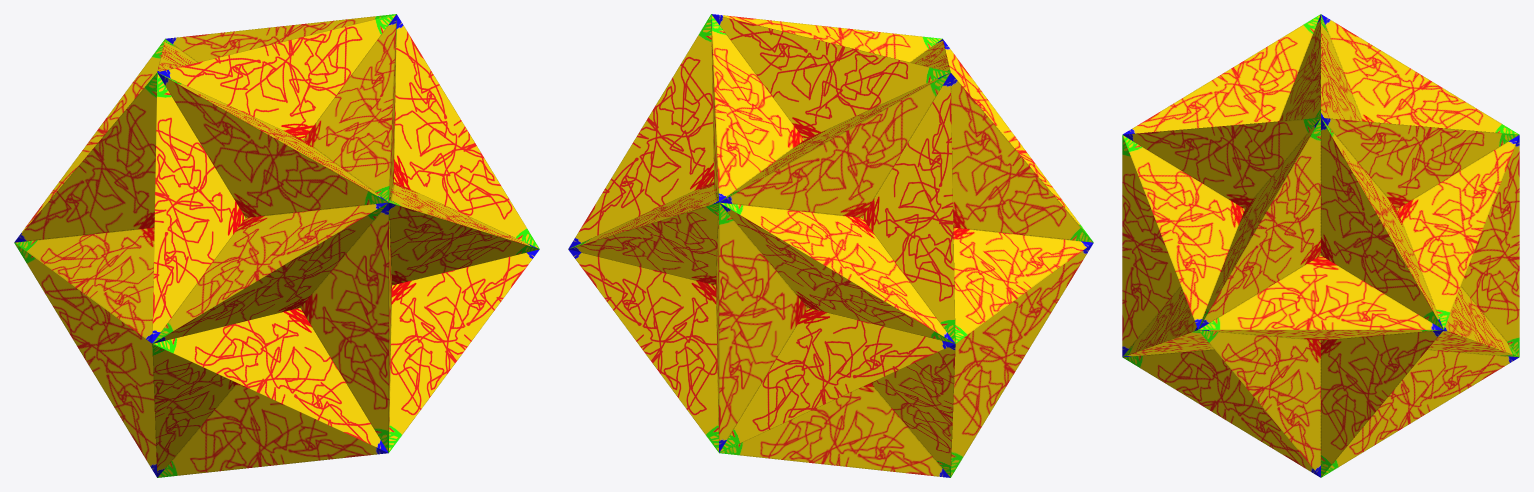
Rendered from great-dodecahedron.glb.
3 renders of one model, left to right at view 1: azimuth 30°, elevation 25°; view 2: azimuth 150°, elevation 25°; view 3: azimuth 270°, elevation 25°, orthographic. The views are drawn at different scales.
Parts seen in each view (by area): view 1: Great Dodecahedron ((5.5.5.5.5)/2), W21, p39; view 2: Great Dodecahedron ((5.5.5.5.5)/2), W21, p39; view 3: Great Dodecahedron ((5.5.5.5.5)/2), W21, p39.
Part boxes in pixels (x1,y1,x2,y2): Great Dodecahedron ((5.5.5.5.5)/2), W21, p39: (14,14,539,477); Great Dodecahedron ((5.5.5.5.5)/2), W21, p39: (568,14,1093,477); Great Dodecahedron ((5.5.5.5.5)/2), W21, p39: (1122,14,1519,477).
Size of the model in its own units: 22.59 by 22.59 by 22.59.
Materials: 1 (1 with a texture image).
